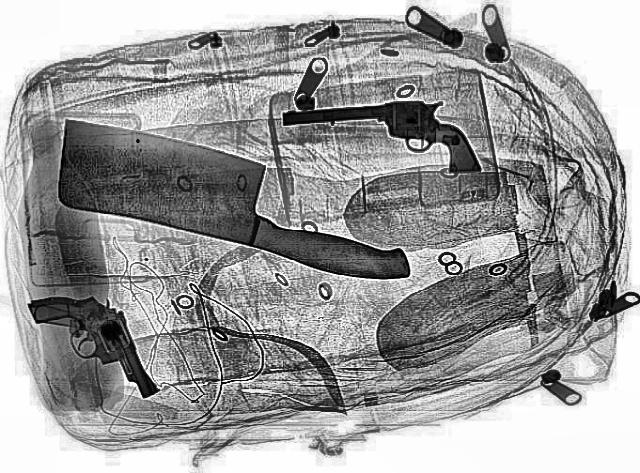Gun: (19, 277, 189, 409), (281, 97, 479, 179)
Knife: (21, 110, 446, 286)
